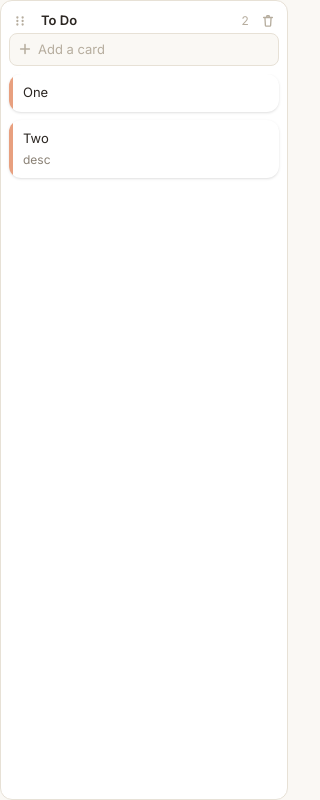
Column › Escape cancels a rename
The image size is (320, 800).
Click the button with aria-label "Column title": {"x": 134, "y": 21} left=35, top=9, right=233, bottom=32
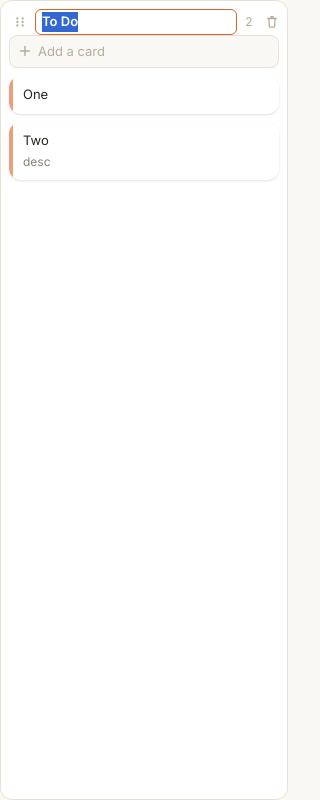
In the field named "Column title": {"x": 136, "y": 22} left=35, top=9, right=237, bottom=34, type "xyz"
Then press Escape
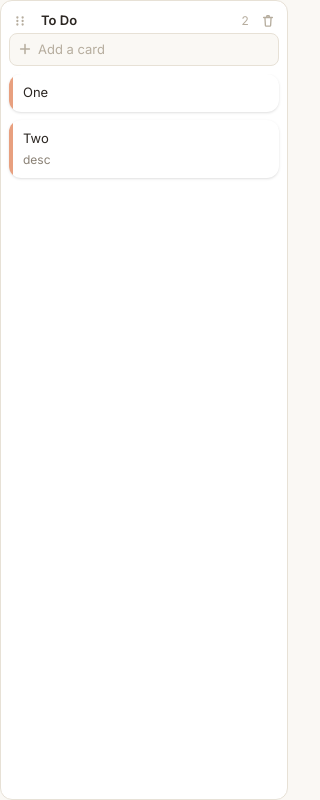
Check: the button with aria-label "Column title" reads "To Do", box left=35, top=9, right=233, bottom=32
